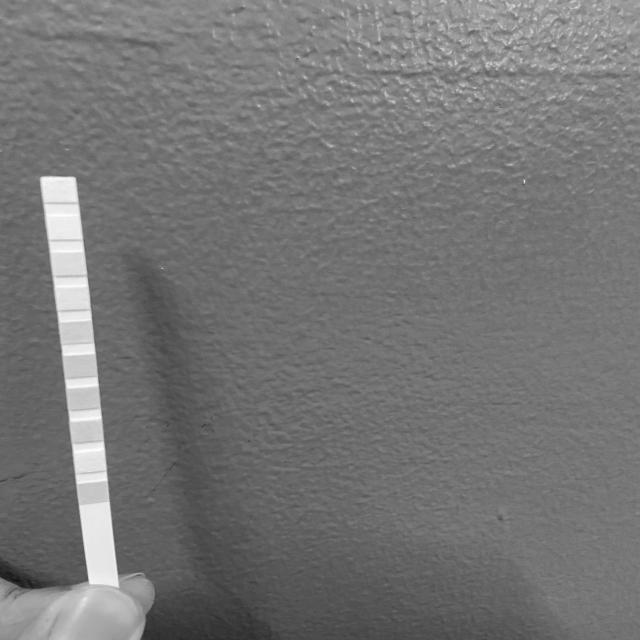Bilirubin: (75, 453, 105, 471)
Blood: (65, 355, 96, 376)
Glucose: (78, 484, 108, 501)
Ketone: (72, 422, 102, 440)
Leukocytes: (44, 179, 76, 201)
Nitrite: (49, 217, 80, 240)
Protein: (56, 287, 89, 309)
SpGravity: (68, 389, 99, 408)
Urobilinogen: (53, 253, 85, 275)
background: (0, 0, 640, 640)
pH: (60, 322, 93, 343)
strip: (41, 176, 120, 578)
